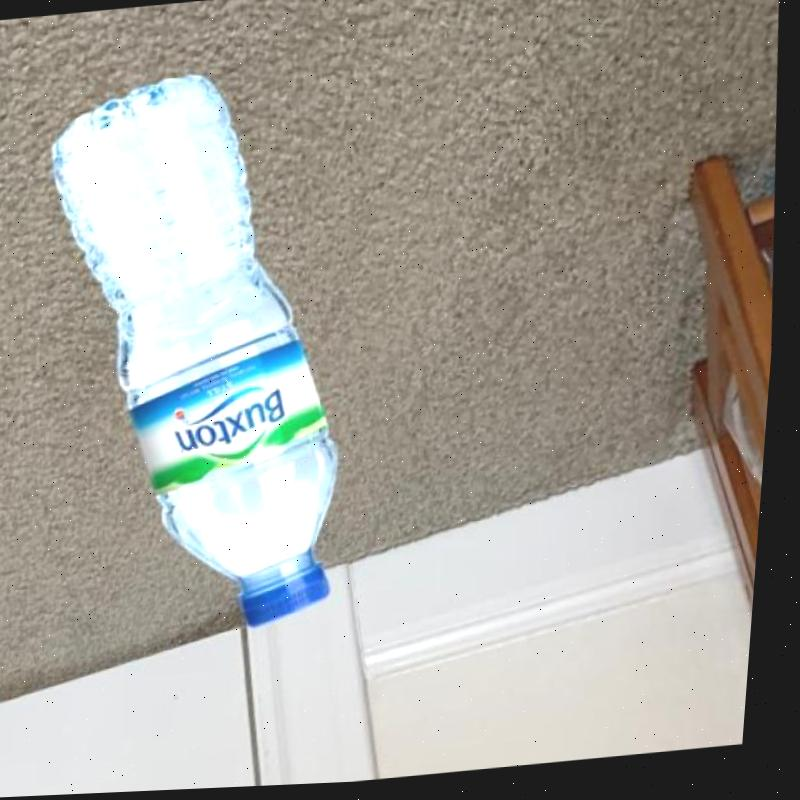botella: (22, 63, 380, 651)
